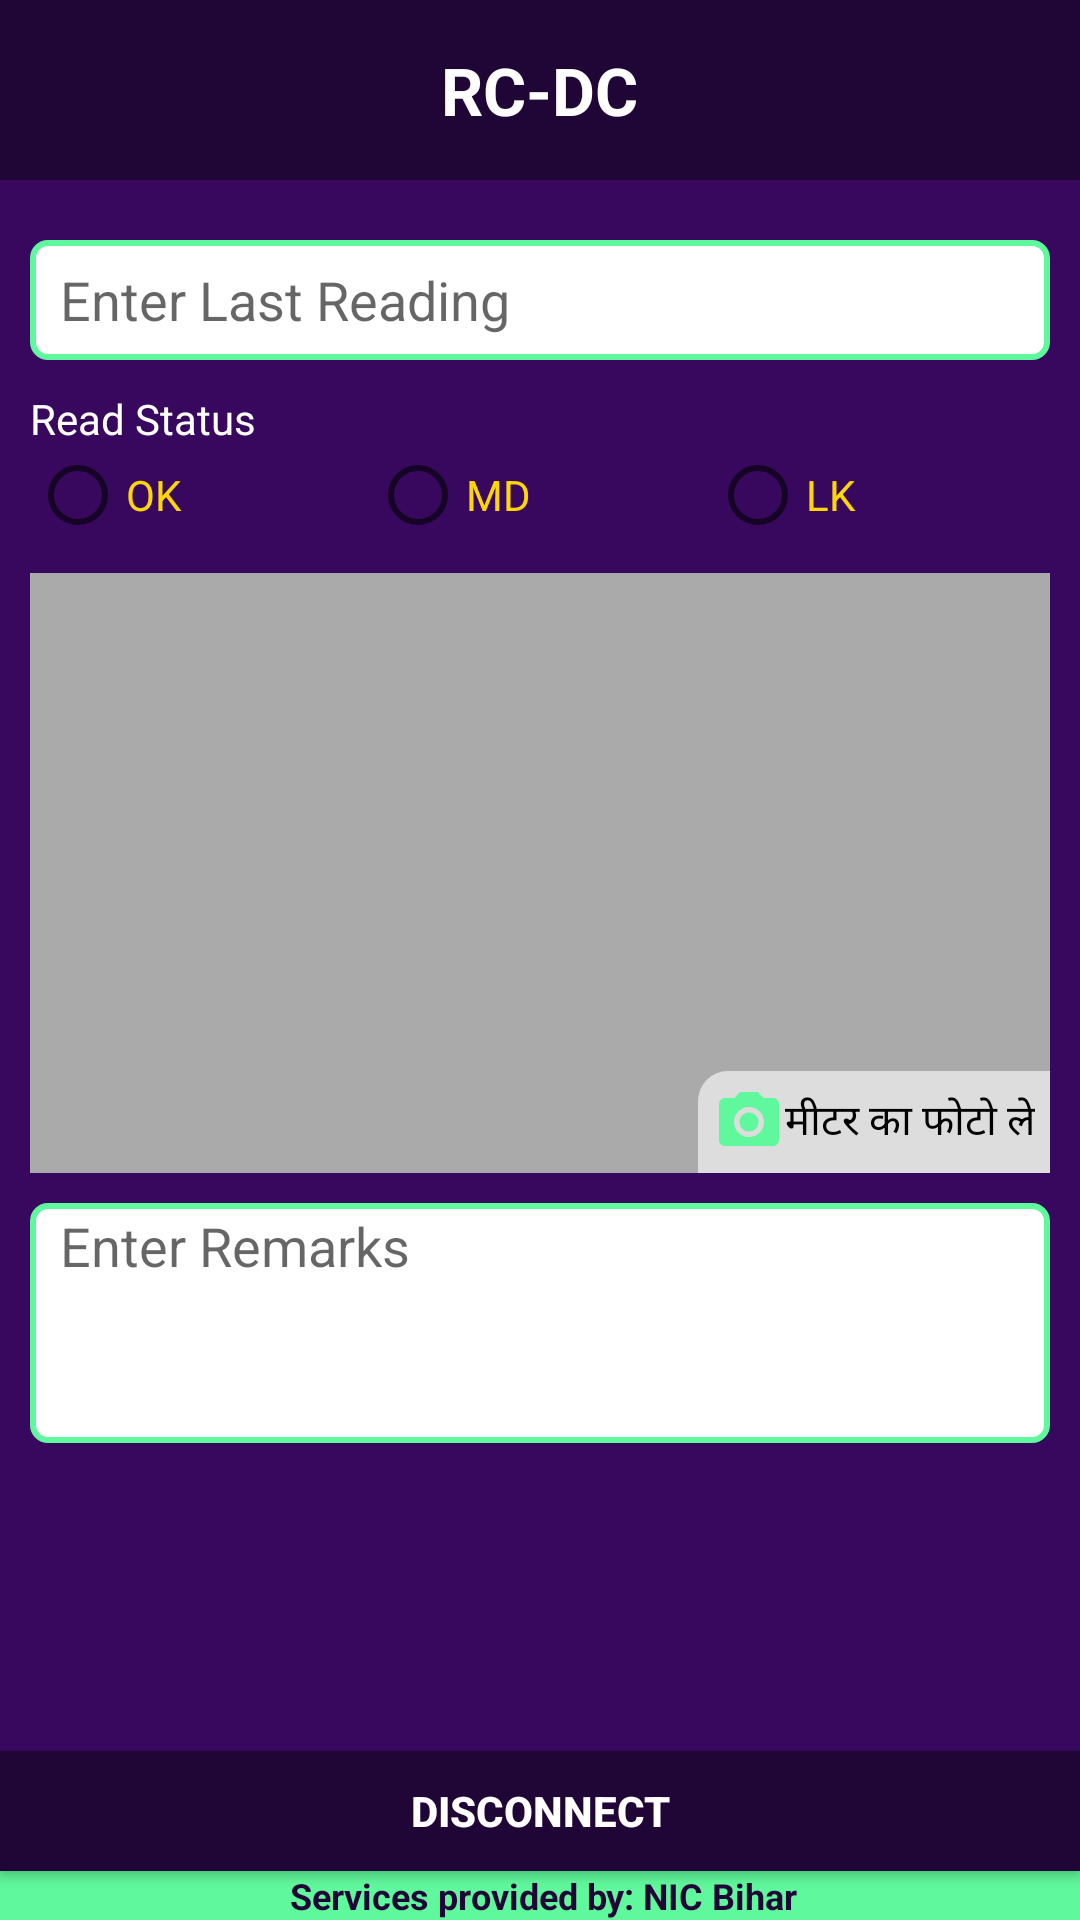

Icons on this 1080 x 1920 Android screen, each with the point to tap as (x,y):
camera: (749,1119)
